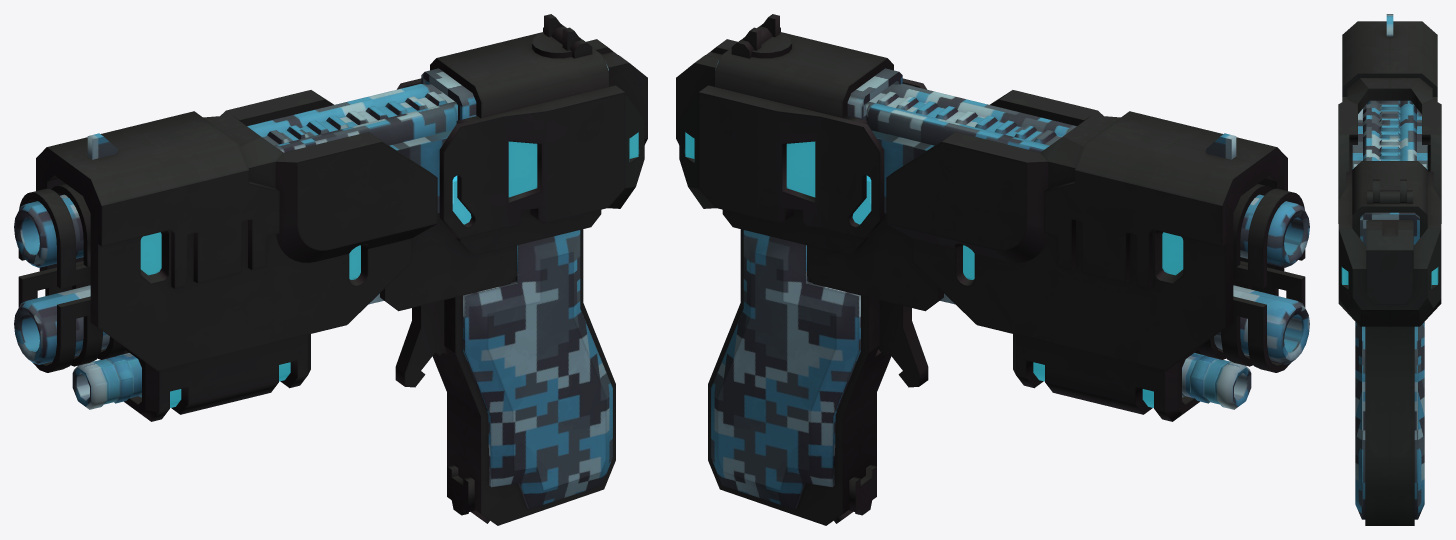
File: pistol1.fbx
3 renders of one model, left to right at view 1: azimuth 30°, elevation 25°; view 2: azimuth 150°, elevation 25°; view 3: azimuth 270°, elevation 25°, orthographic. The views are drawn at different scales.
Parts seen in each view (by area): view 1: Pistol1, Pistol1_Trigger; view 2: Pistol1, Pistol1_Trigger; view 3: Pistol1.
Part boxes in pixels (x1,y1,x2,y2): Pistol1: (14,14,647,525); Pistol1_Trigger: (395,300,445,387); Pistol1: (676,14,1309,525); Pistol1_Trigger: (878,300,928,387); Pistol1: (1338,14,1441,525).
Bounding box in the file's own units: 171 × 127 × 34.79.
